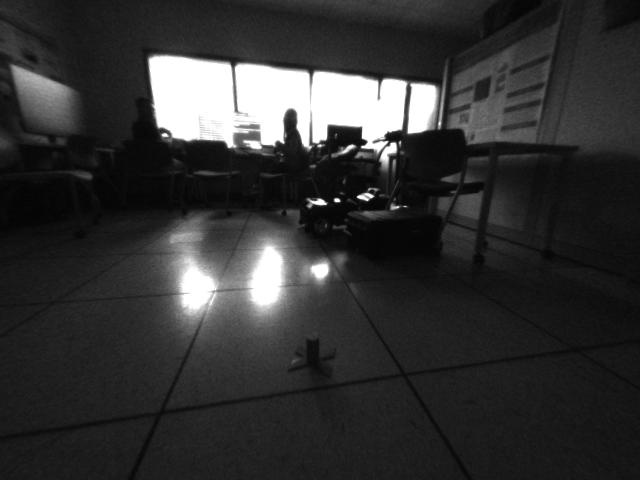x: (281, 330, 340, 386)
